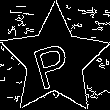P_N: (31, 31, 79, 90)
